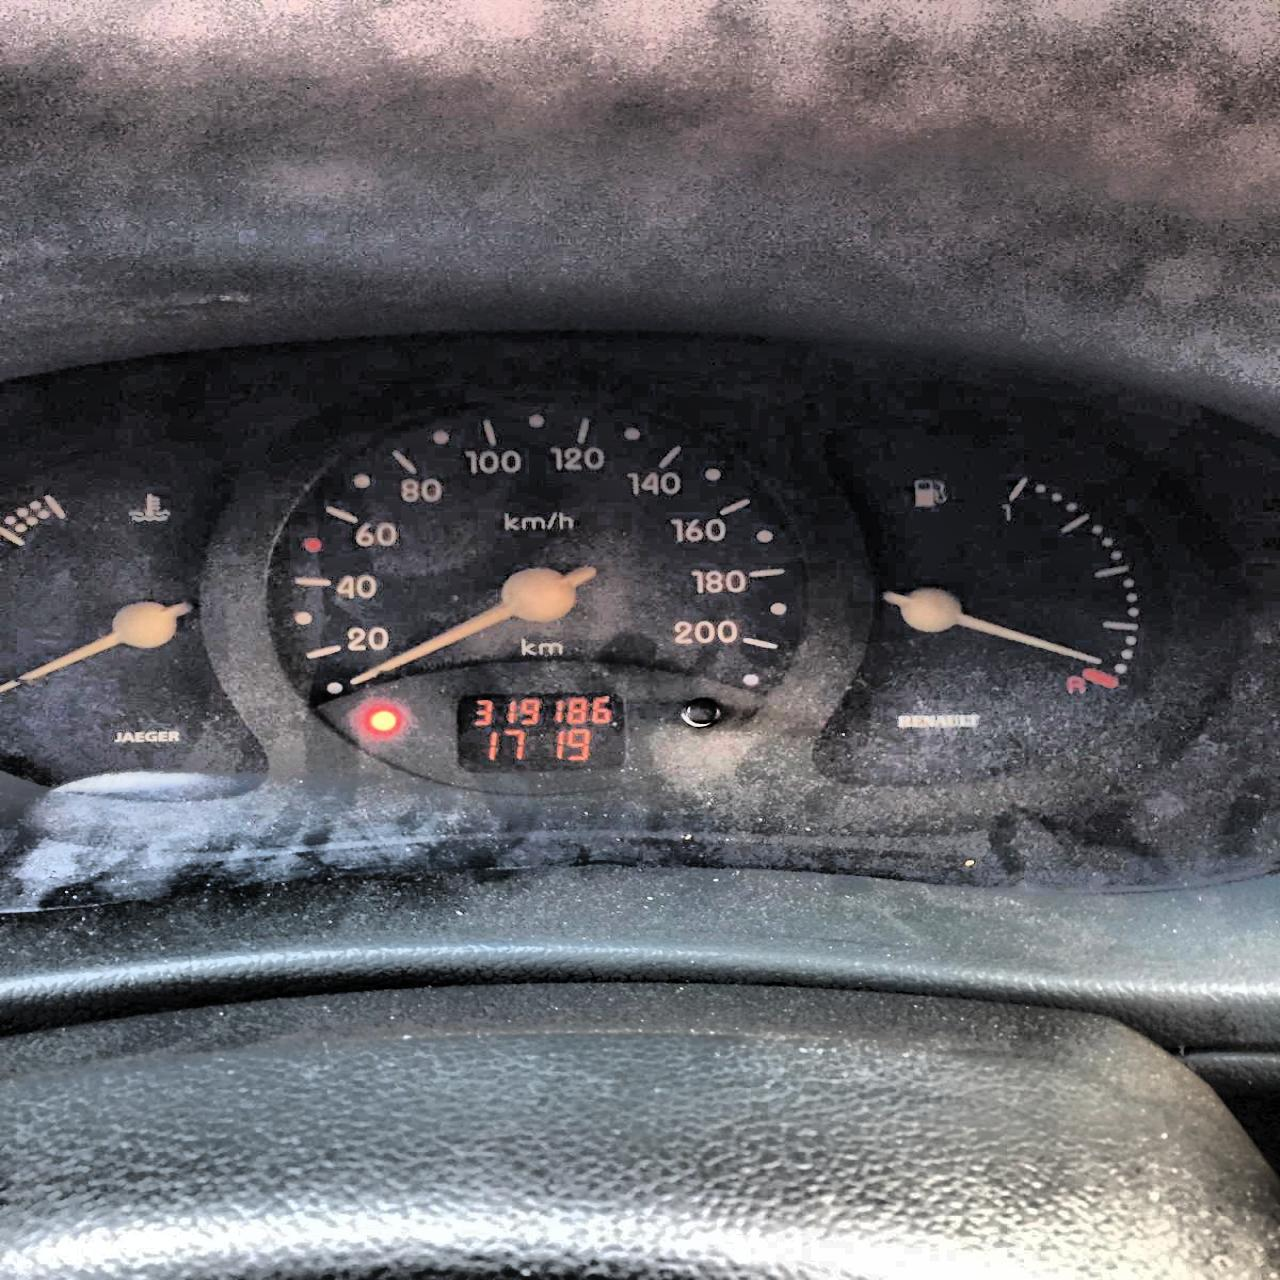1: (554, 729, 564, 758), (488, 731, 496, 760), (554, 700, 564, 722), (506, 701, 516, 723)
3: (474, 700, 491, 726)
6: (591, 697, 610, 722)
7: (502, 729, 524, 758)
8: (566, 697, 587, 722)
9: (565, 728, 588, 760), (519, 699, 538, 723)
odometer: (455, 689, 629, 772)
